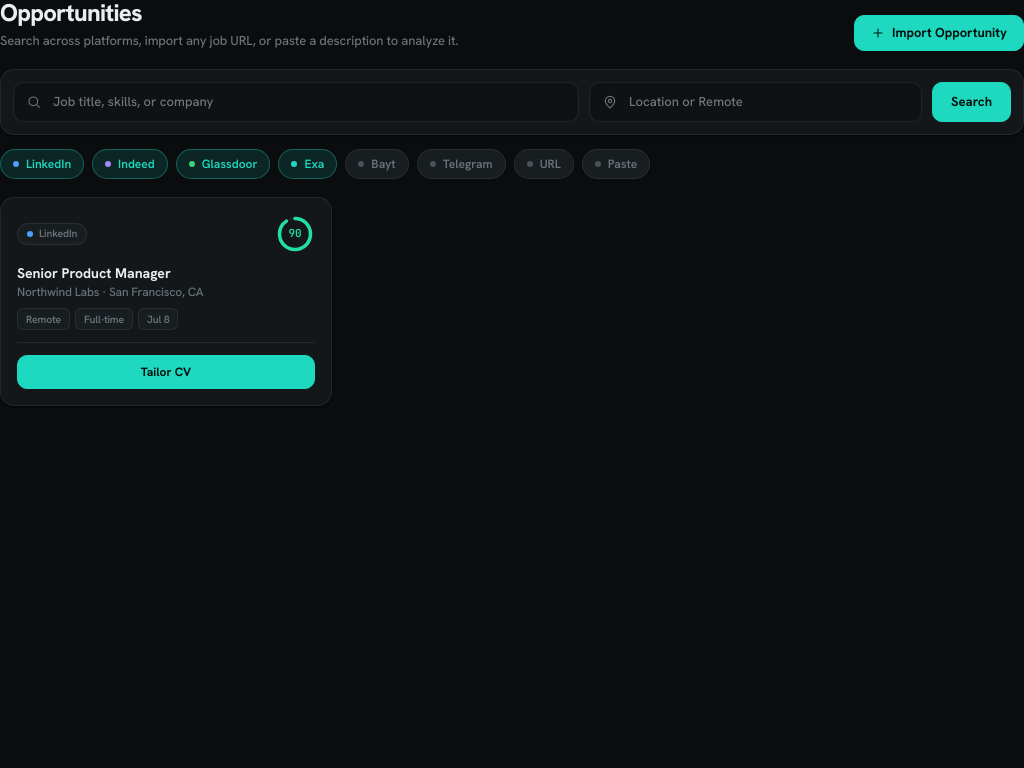
Test: JobSearchPage › opens the job drawer when a job title is clicked
Click the button "Senior Product Manager". click: (166, 273)
box: [17, 264, 315, 282]
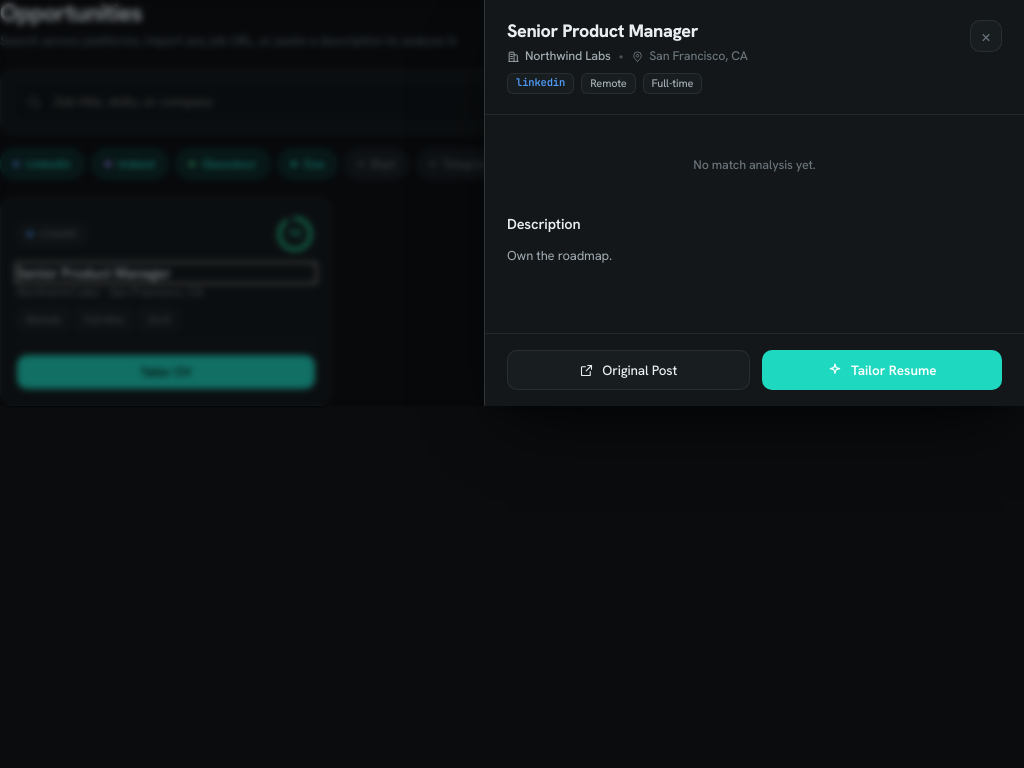
Expected: the dialog named "job details" is shown, [484, 0, 1023, 406]
Expected: the text "Own the roadmap." is shown, [507, 247, 612, 264]
